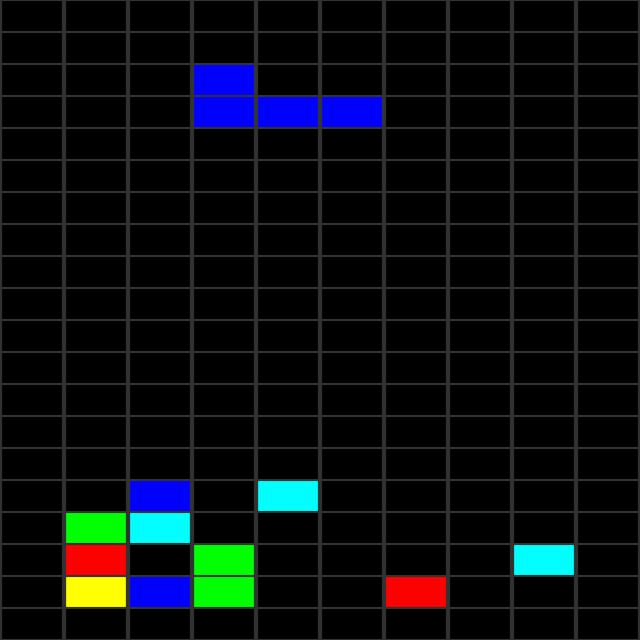Tetrimino_S: (194, 64, 384, 128)
